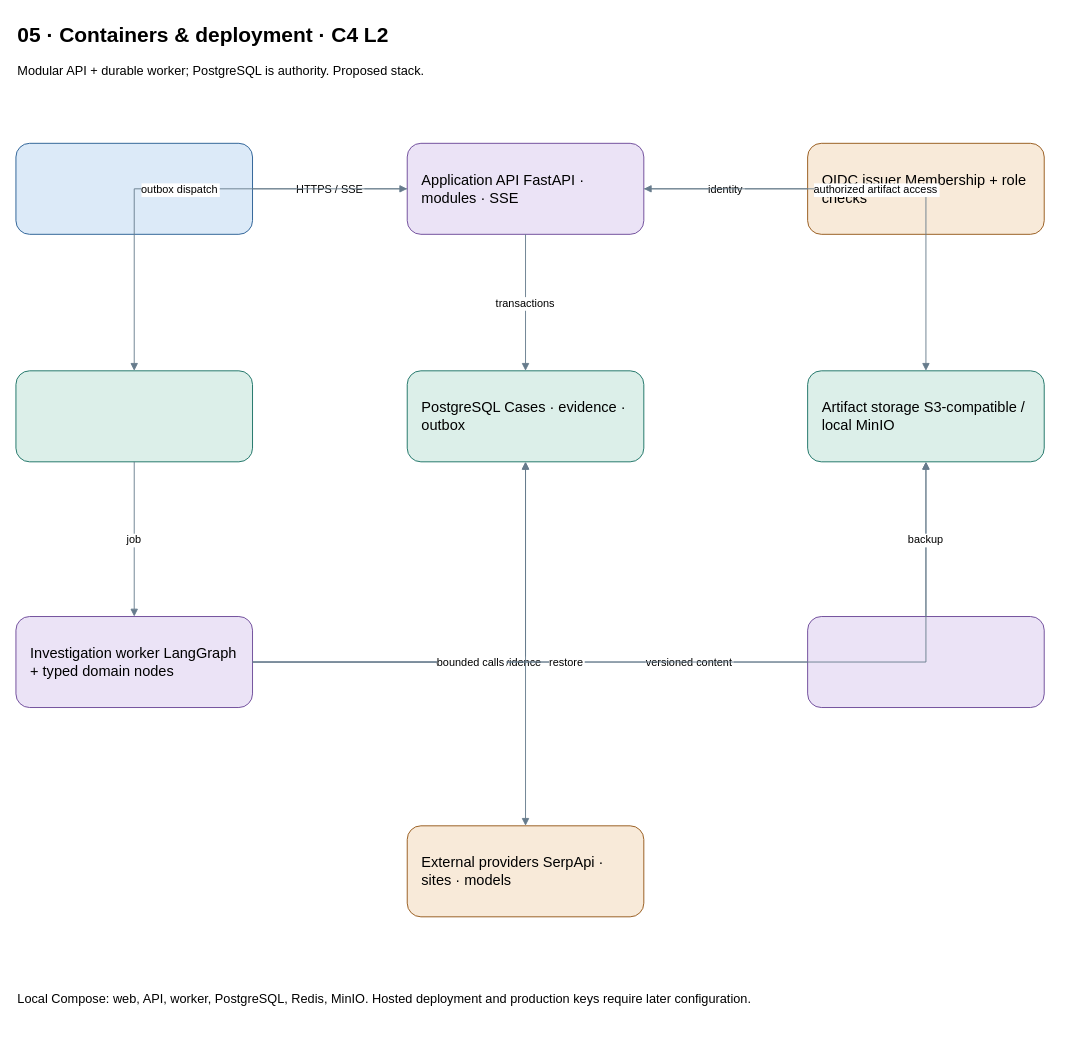
Some shapes in this 1069 by 1064 pixel diagram are drawn without their labels. The centre of each missing label's shape, as x and y in pixels:
"Operations Metrics · backup · restore" belongs at point (925, 662).
"Redis / queue Jobs + rate limits" belongs at point (134, 416).
"Web workspace React + TypeScript" belongs at point (134, 188).
